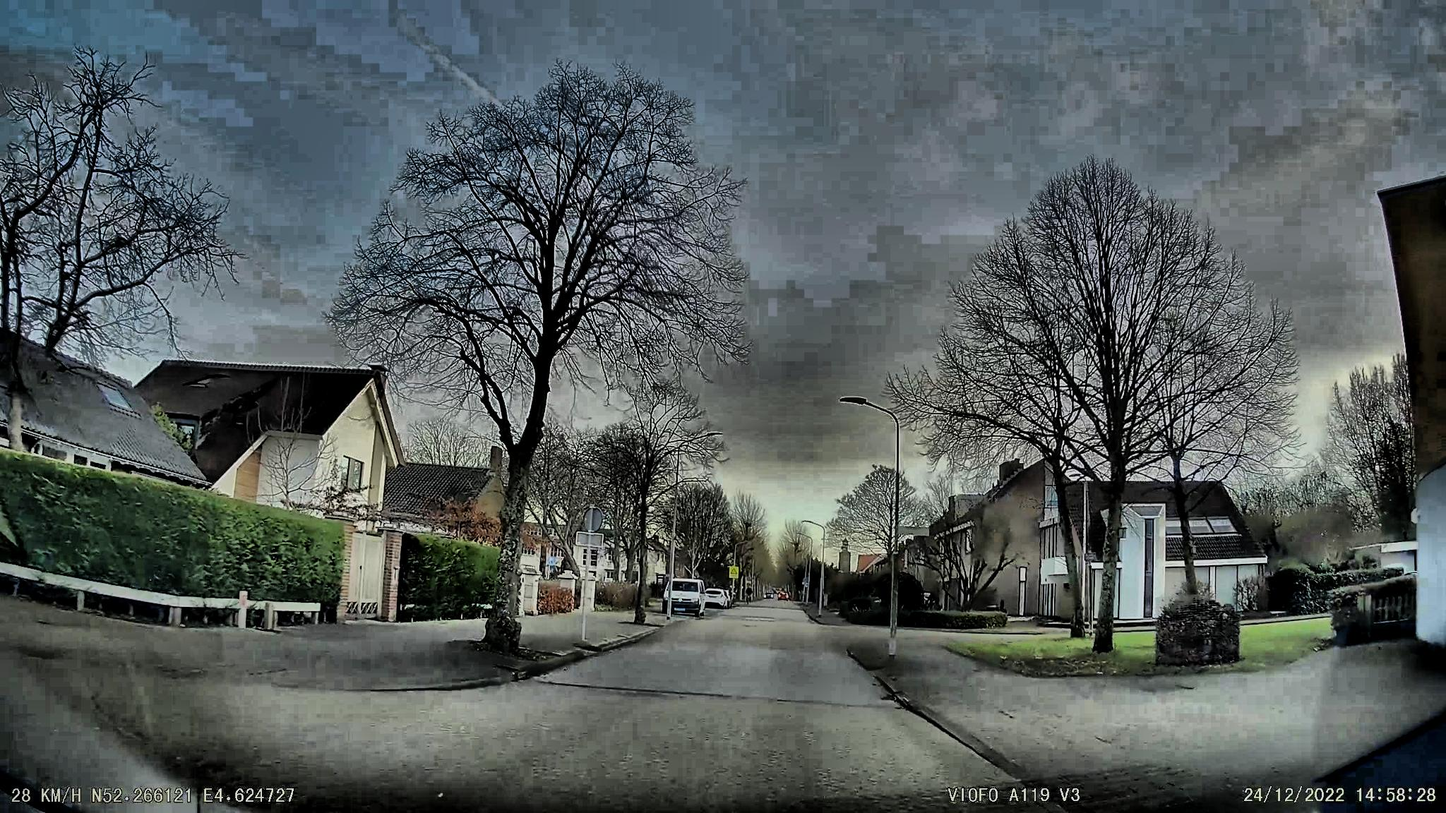Roads: (0, 601, 1014, 813)
